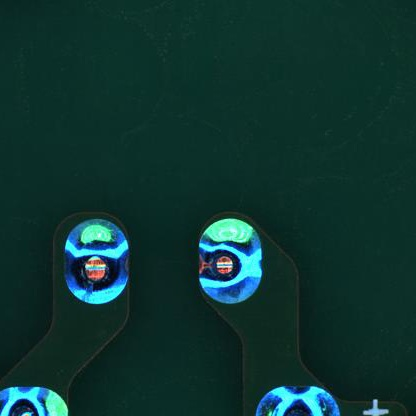spot: (61, 213, 133, 309), (196, 217, 267, 312)
